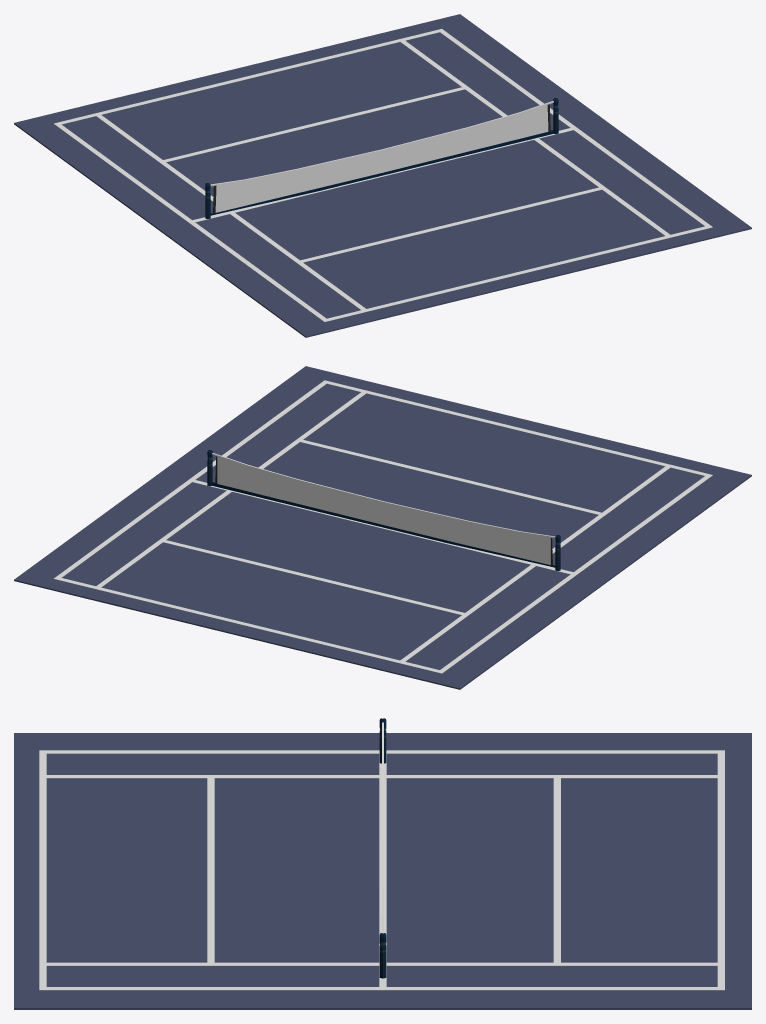
File: playableGround.fbx
The picture shows the model from 3 angles, top to bottom: view 1: azimuth 30°, elevation 25°; view 2: azimuth 150°, elevation 25°; view 3: azimuth 270°, elevation 25°; orthographic projection. The views are drawn at different scales.
Parts seen in each view (by area): view 1: TennisCourtPlayAble_GEO, Tennis_Net; view 2: TennisCourtPlayAble_GEO, Tennis_Net; view 3: TennisCourtPlayAble_GEO, Tennis_Net.
Boxes of the visible parts, bbox=[...] form: TennisCourtPlayAble_GEO: bbox=[14, 14, 751, 337]; Tennis_Net: bbox=[205, 98, 558, 218]; TennisCourtPlayAble_GEO: bbox=[14, 366, 751, 689]; Tennis_Net: bbox=[207, 450, 560, 570]; TennisCourtPlayAble_GEO: bbox=[14, 733, 751, 1009]; Tennis_Net: bbox=[379, 718, 386, 978].
Bounding box in the file's own units: 1800 × 138 × 2039.
